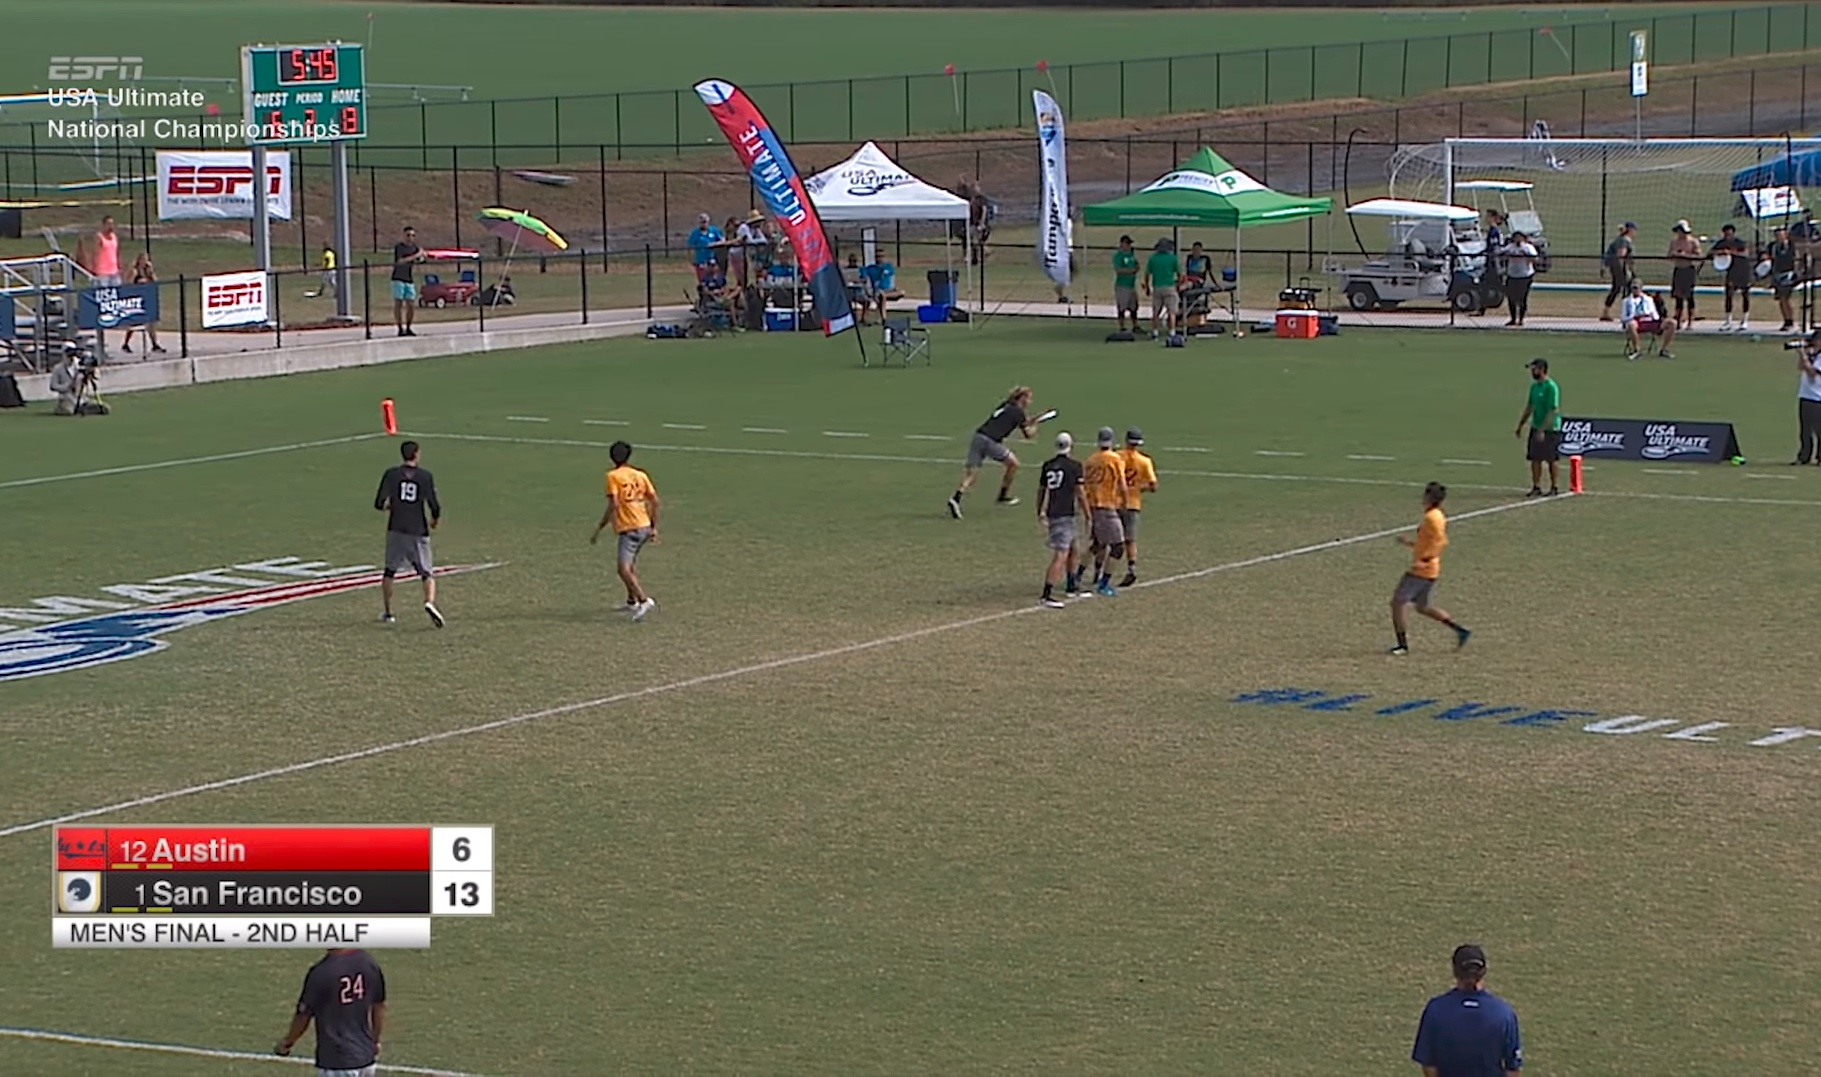frisbee: (1037, 410, 1057, 422)
